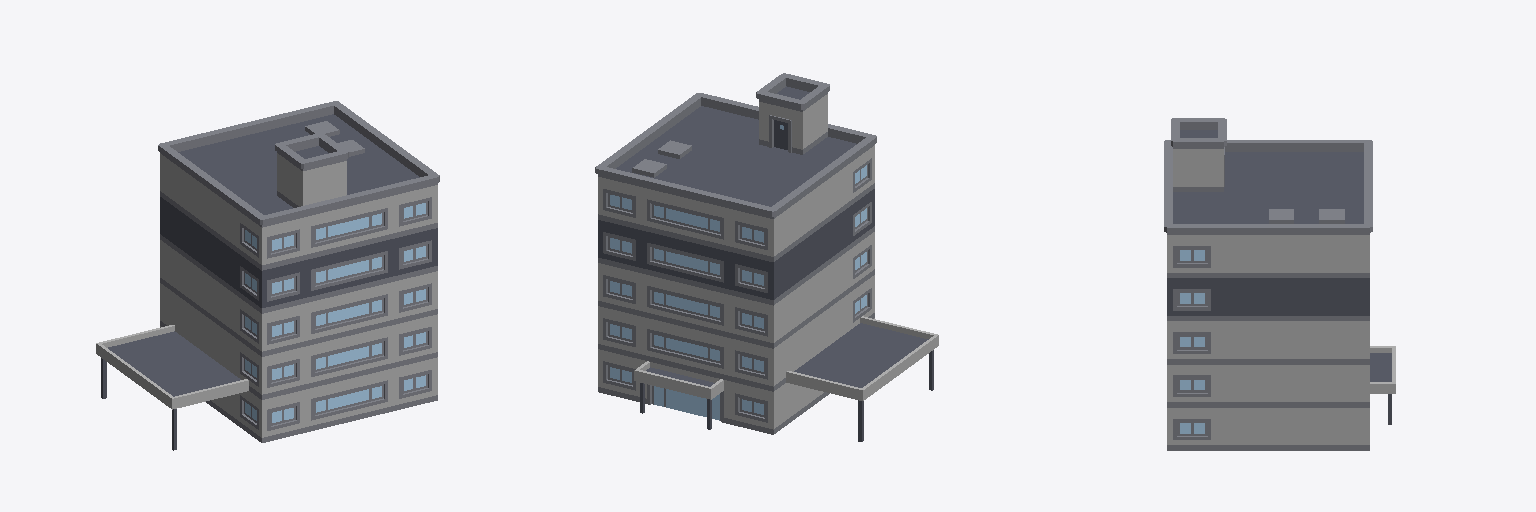
Rendered from city_mall_g.obj.
3 views of the same model, side by side, from view 1: azimuth 30°, elevation 25°; view 2: azimuth 150°, elevation 25°; view 3: azimuth 270°, elevation 25° (orthographic).
Visible parts, largest first — view 1: mergedBlocks; view 2: mergedBlocks; view 3: mergedBlocks.
Part boxes in pixels (bbox=[...]): mergedBlocks: bbox=[96, 101, 439, 450]; mergedBlocks: bbox=[595, 73, 938, 441]; mergedBlocks: bbox=[1164, 118, 1395, 450].
Bounding box in the file's own units: 1.48 × 1.49 × 1.16.